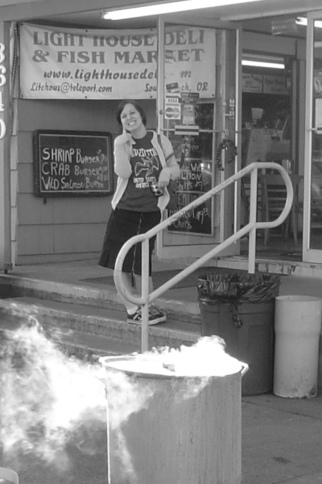without_mask: (119, 102, 147, 135)
